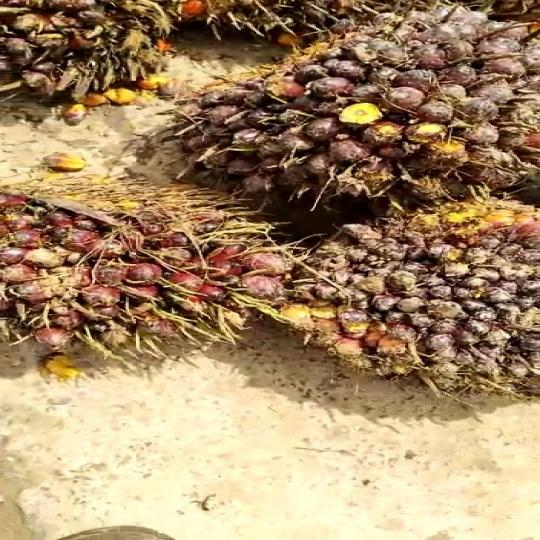kurang masak: (176, 21, 540, 201), (0, 169, 293, 379), (257, 203, 540, 414)
